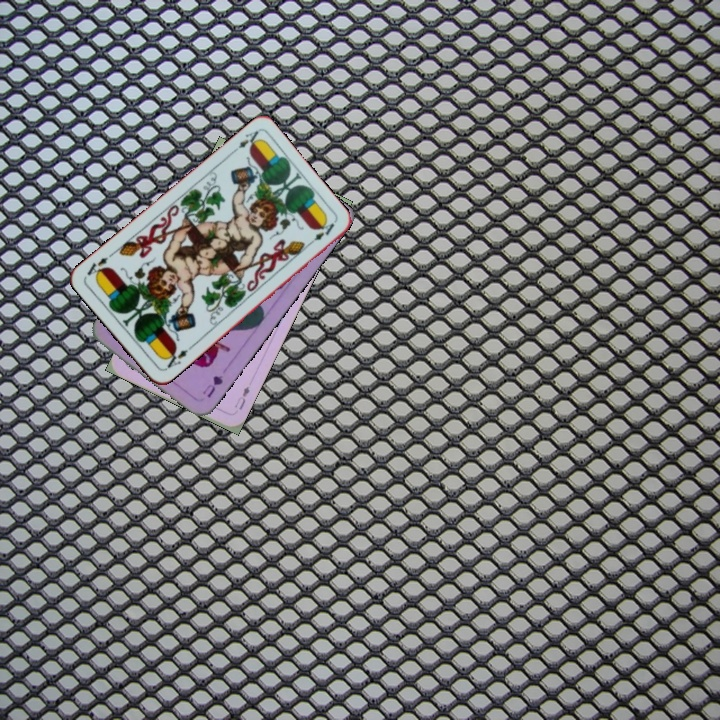EA: (226, 126, 264, 157), (159, 342, 195, 373)
EU: (230, 382, 252, 412)
GU: (198, 371, 225, 401)
